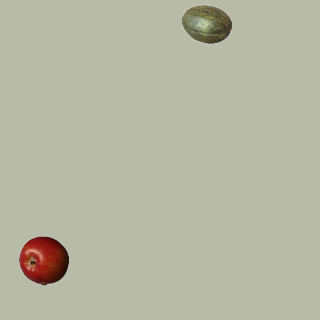Apple Braeburn: (18, 235, 68, 285)
Melon Piel de Sapo: (181, 0, 231, 49)
